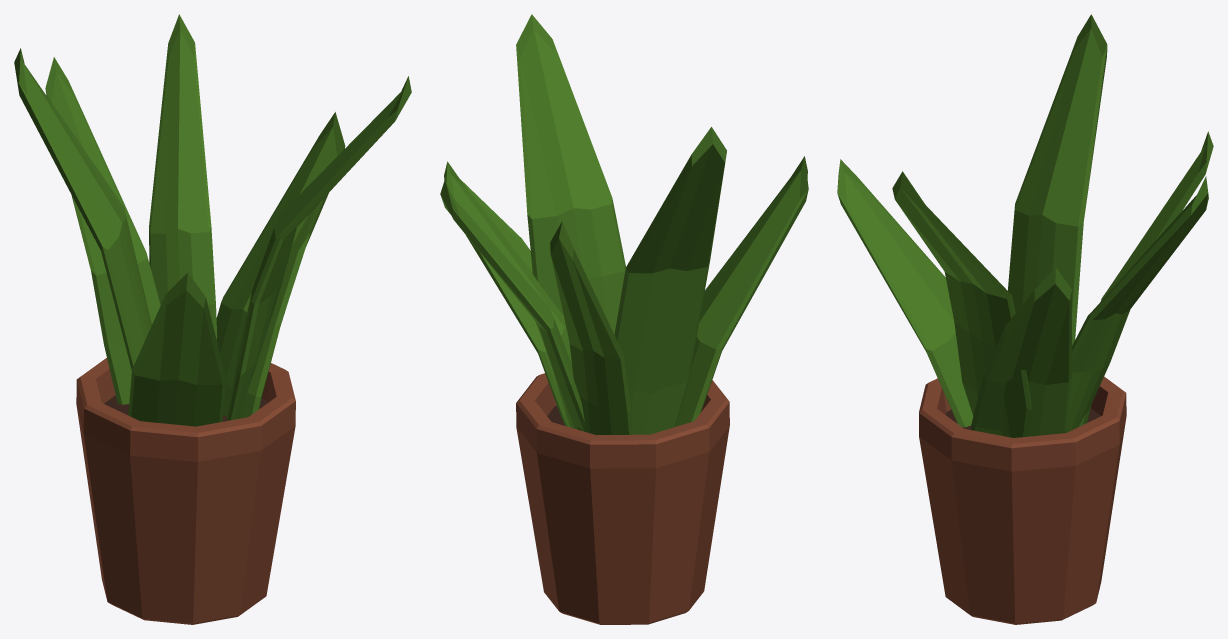
Rendered from plantie2 1.fbx.
3 views of the same model, side by side, from view 1: azimuth 30°, elevation 25°; view 2: azimuth 150°, elevation 25°; view 3: azimuth 270°, elevation 25° (orthographic). The views are drawn at different scales.
Visible parts, largest first — view 1: flowerpot.002; view 2: flowerpot.002; view 3: flowerpot.002.
Boxes of the visible parts, x1=… form: flowerpot.002: x1=14, y1=14, x2=411, y2=624; flowerpot.002: x1=440, y1=14, x2=808, y2=624; flowerpot.002: x1=837, y1=14, x2=1213, y2=624.
Size of the model in its own units: 46.9 by 79.71 by 52.28.
